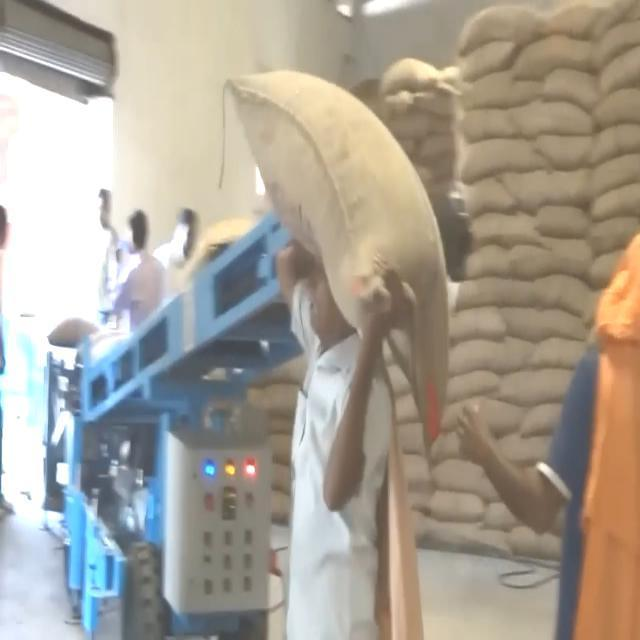gunny_bag: (219, 72, 452, 457), (500, 162, 597, 220), (506, 94, 600, 146), (452, 130, 544, 182), (456, 2, 544, 55), (460, 130, 546, 184), (506, 236, 594, 286), (498, 302, 592, 348), (458, 67, 542, 118), (516, 270, 598, 319), (448, 273, 528, 319), (512, 36, 592, 80), (450, 334, 530, 376), (500, 360, 572, 406), (470, 208, 537, 256), (532, 64, 600, 108), (587, 24, 640, 78), (378, 56, 444, 97), (445, 306, 511, 346), (580, 88, 638, 132), (538, 126, 606, 162), (588, 148, 637, 196), (532, 204, 597, 240), (461, 174, 511, 218), (429, 491, 484, 524)
